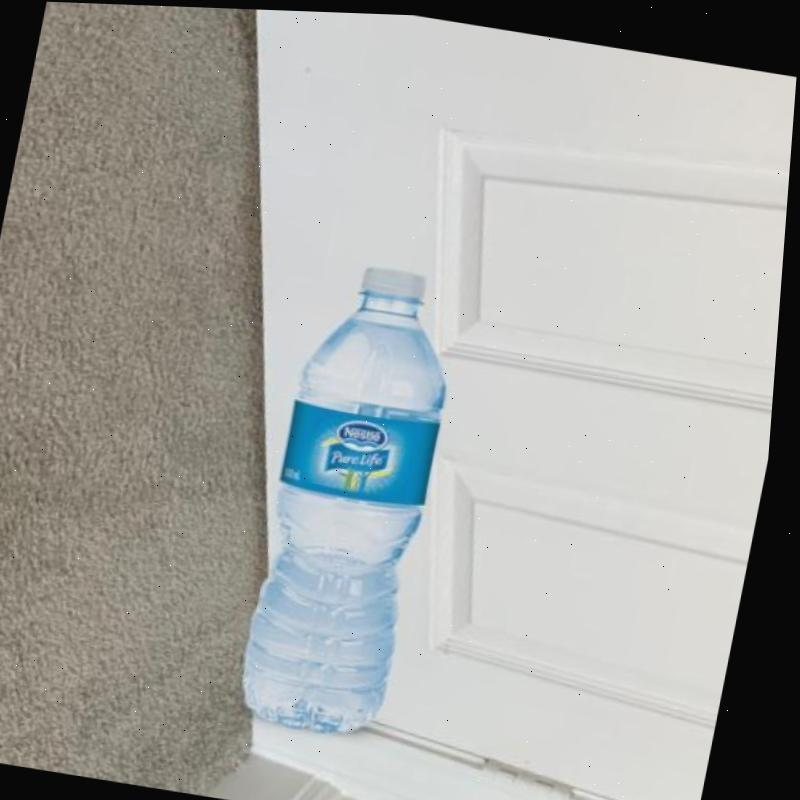botella: (243, 254, 471, 736)
